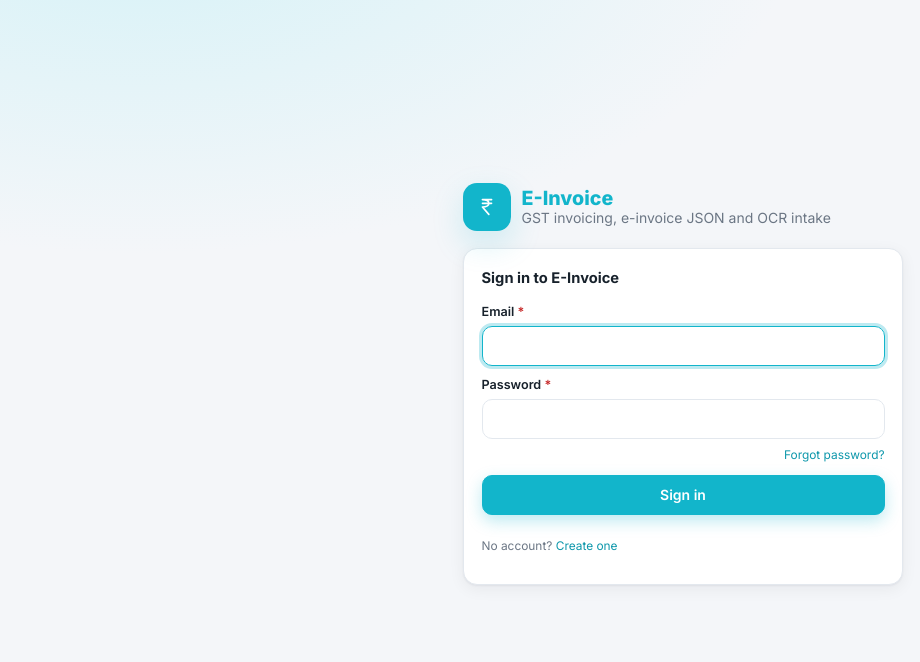
Test case: login page › shows the server's rejection and stays on the code step
The image size is (920, 662).
In the field labelled "Email *": (683, 346) [482, 326, 884, 366], type "a@x.com"
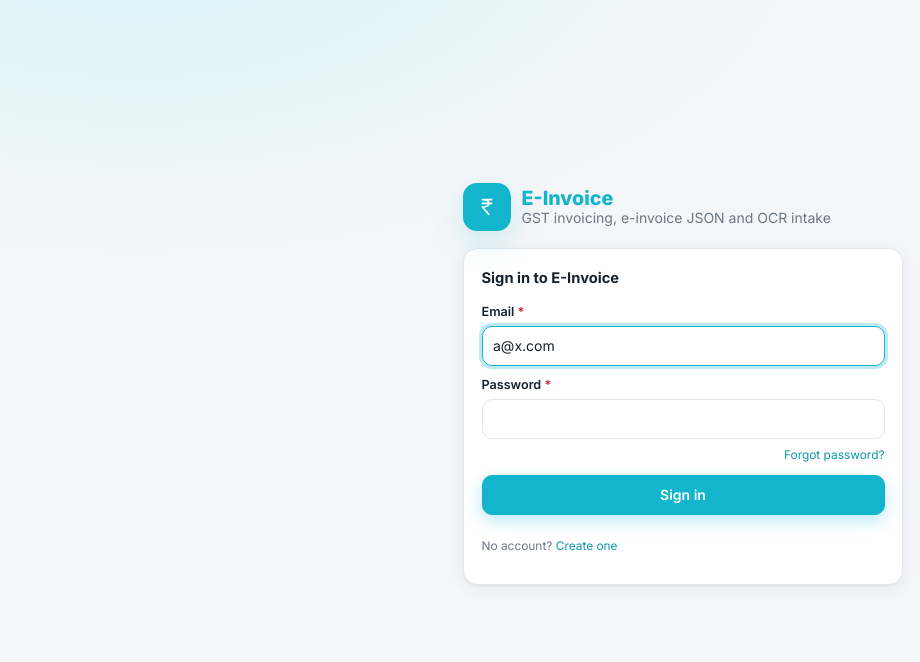
In the password field labelled "Password *": (683, 419) [482, 399, 884, 439], type "a-strong-enough-phrase"
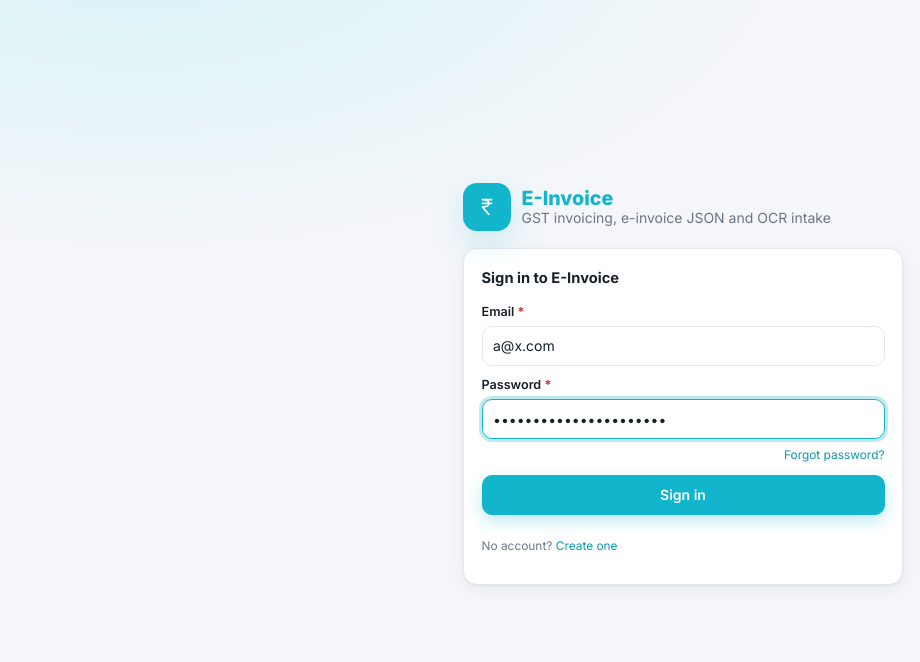
Click the button "Sign in": (683, 495) [482, 475, 884, 515]
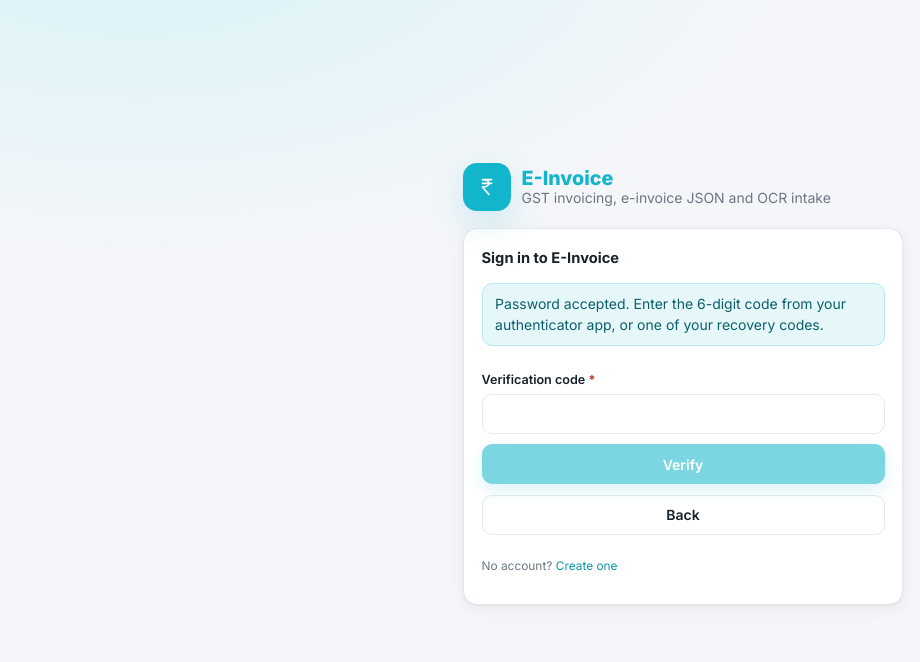
In the field labelled "Verification code *": (683, 414) [482, 394, 884, 434], type "000000"
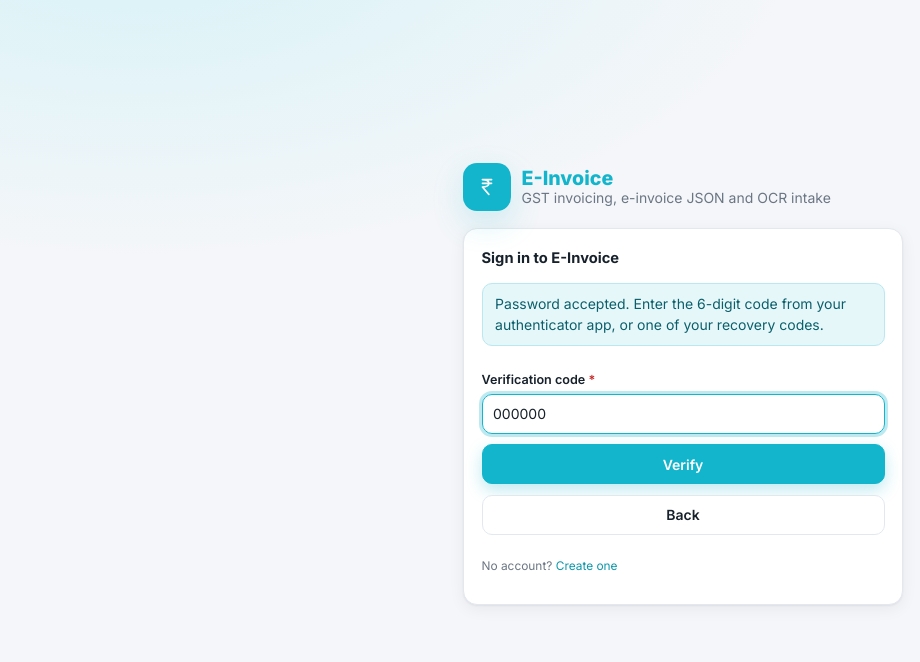
Click the button "Verify": (683, 464) [482, 444, 884, 484]
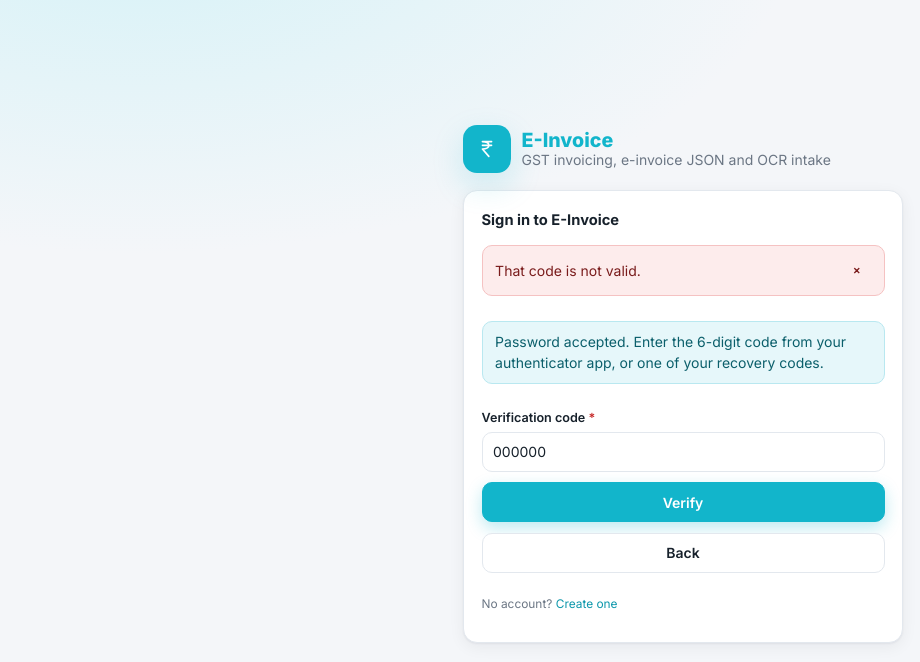
Result: the text "That code is not valid." is shown at [495, 260, 641, 281]
